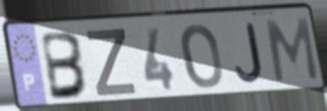4: (142, 26, 177, 94)
B: (39, 30, 91, 103)
J: (233, 21, 265, 86)
M: (263, 16, 321, 85)
O: (179, 22, 225, 91)
Z: (84, 27, 139, 99)
